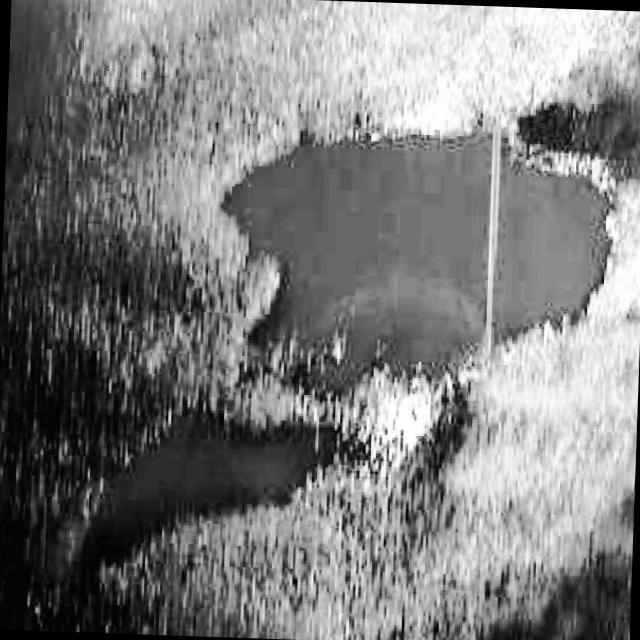Pothole: (53, 87, 638, 628)
